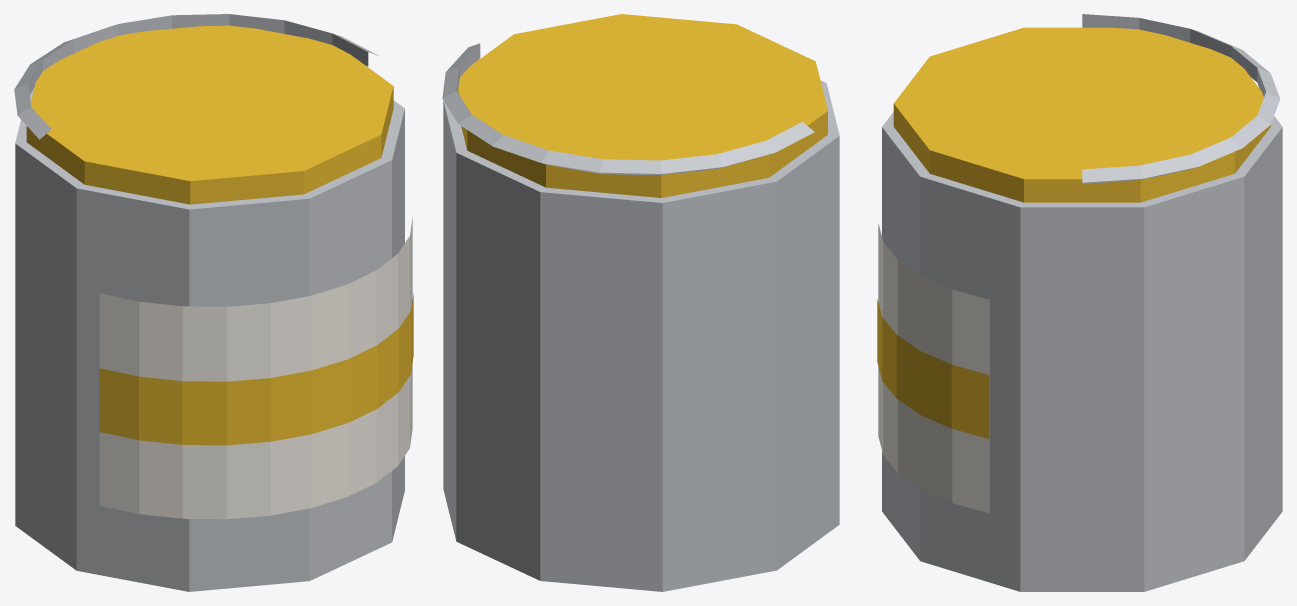
File: paint_can_2.glb
3 renders of one model, left to right at view 1: azimuth 30°, elevation 25°; view 2: azimuth 150°, elevation 25°; view 3: azimuth 270°, elevation 25°, orthographic.
Parts seen in each view (by area): view 1: can_tin, lid, label_paint_label, label, handle_tin; view 2: can_tin, lid, handle_tin; view 3: can_tin, lid, label_paint_label, label, handle_tin.
Part boxes in pixels (left/top/right/bottom): can_tin: left=15, top=89, right=404, bottom=591; lid: left=26, top=25, right=393, bottom=204; label_paint_label: left=99, top=217, right=412, bottom=519; label: left=99, top=293, right=413, bottom=445; handle_tin: left=14, top=14, right=378, bottom=139; can_tin: left=443, top=80, right=839, bottom=591; lid: left=458, top=14, right=827, bottom=197; handle_tin: left=442, top=43, right=814, bottom=174; can_tin: left=882, top=112, right=1282, bottom=591; lid: left=893, top=27, right=1270, bottom=202; label_paint_label: left=878, top=223, right=989, bottom=513; label: left=877, top=299, right=989, bottom=438; handle_tin: left=1082, top=14, right=1280, bottom=184.
Size of the model in its own units: 0.168 by 0.1965 by 0.172.
